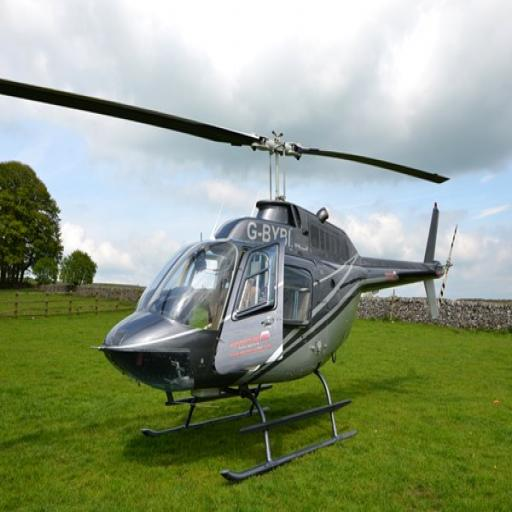helicopter: (2, 78, 459, 486)
